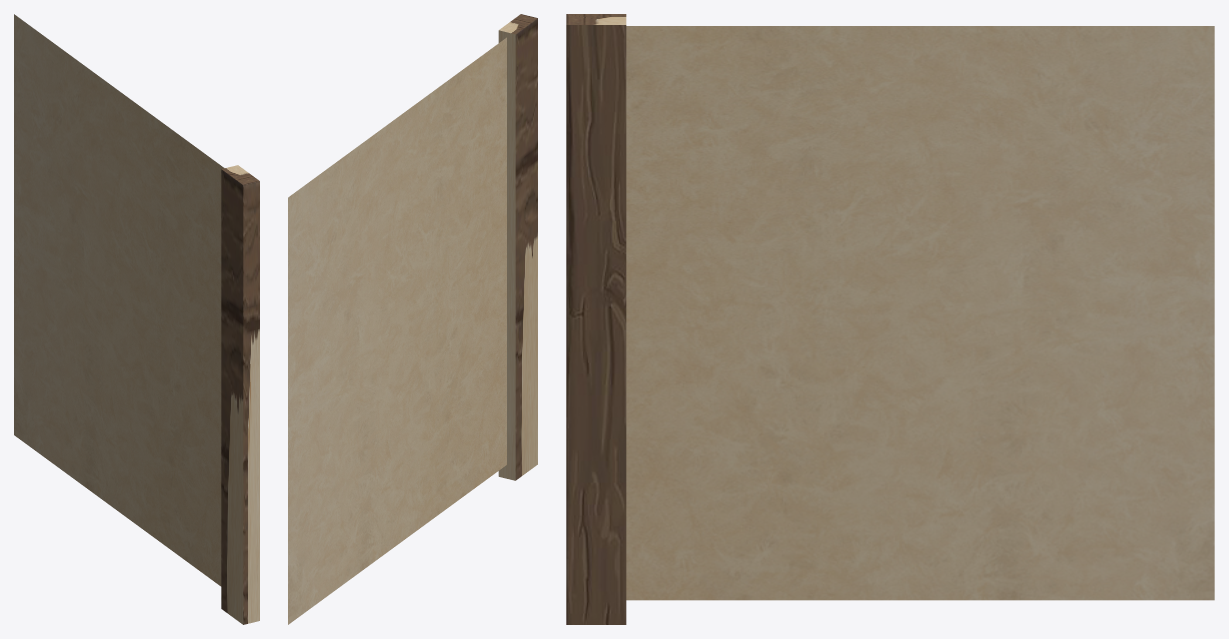
The model's file is hint.fbx.
3 views of the same model, side by side, from view 1: azimuth 30°, elevation 25°; view 2: azimuth 150°, elevation 25°; view 3: azimuth 270°, elevation 25° (orthographic). The views are drawn at different scales.
Visible parts, largest first — view 1: Plane, Cube.001; view 2: Plane, Cube.001; view 3: Plane, Cube.001.
Boxes of the visible parts, <box> form: Plane: <box>14,14,224,586</box>; Cube.001: <box>221,165,259,624</box>; Plane: <box>288,37,506,624</box>; Cube.001: <box>498,14,537,480</box>; Plane: <box>626,26,1214,600</box>; Cube.001: <box>566,14,626,624</box>.
Bounding box in the file's own units: 8.27 × 209 × 205.
